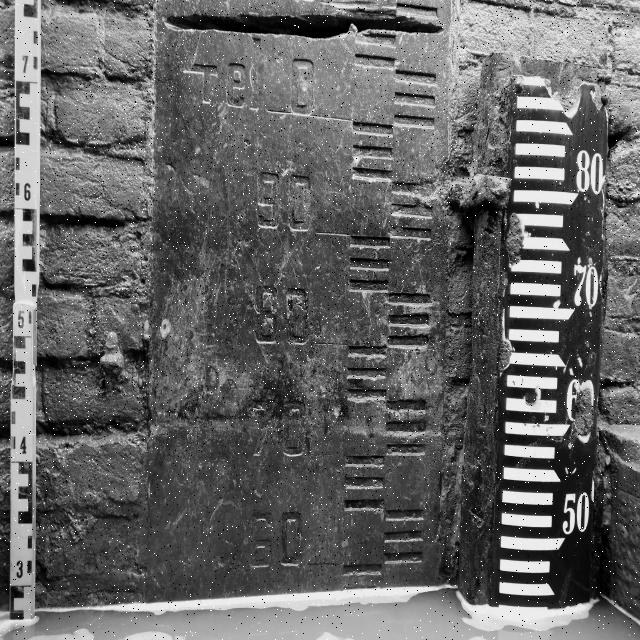50: (562, 487, 592, 532)
70: (570, 260, 601, 308)
80: (571, 141, 606, 196)
staff: (489, 71, 604, 604)
